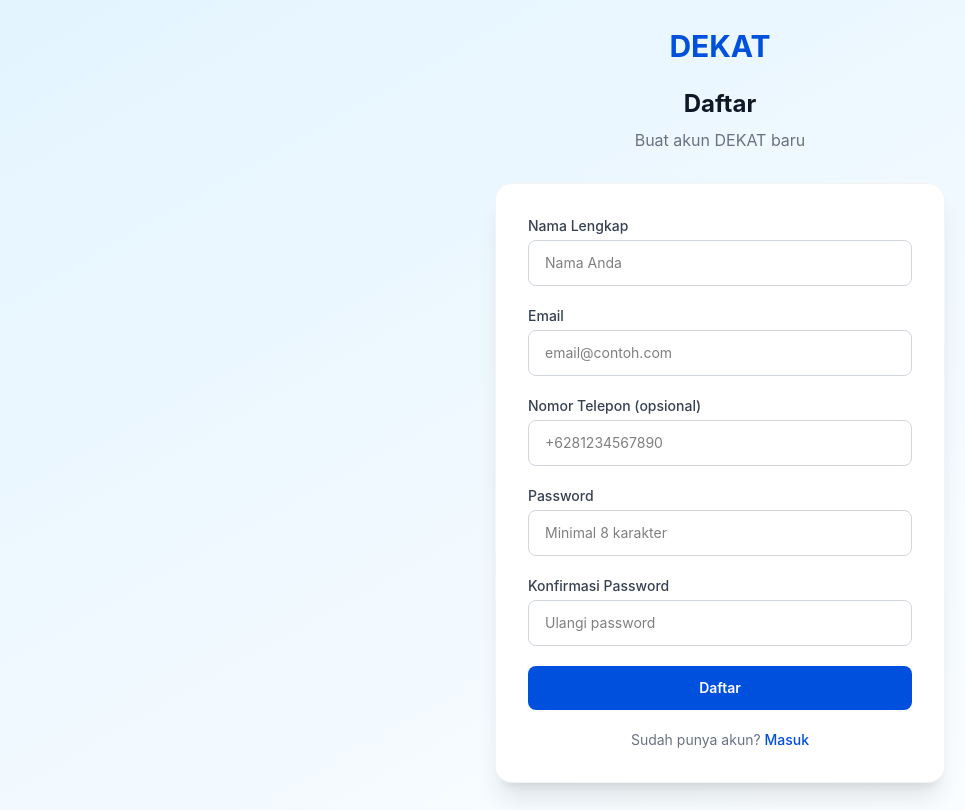
RegisterPage › validates invalid email format
Type "Test User" into the field labelled "Nama Lengkap".
click(720, 263); type("Test User")  # box [528,240,912,286]
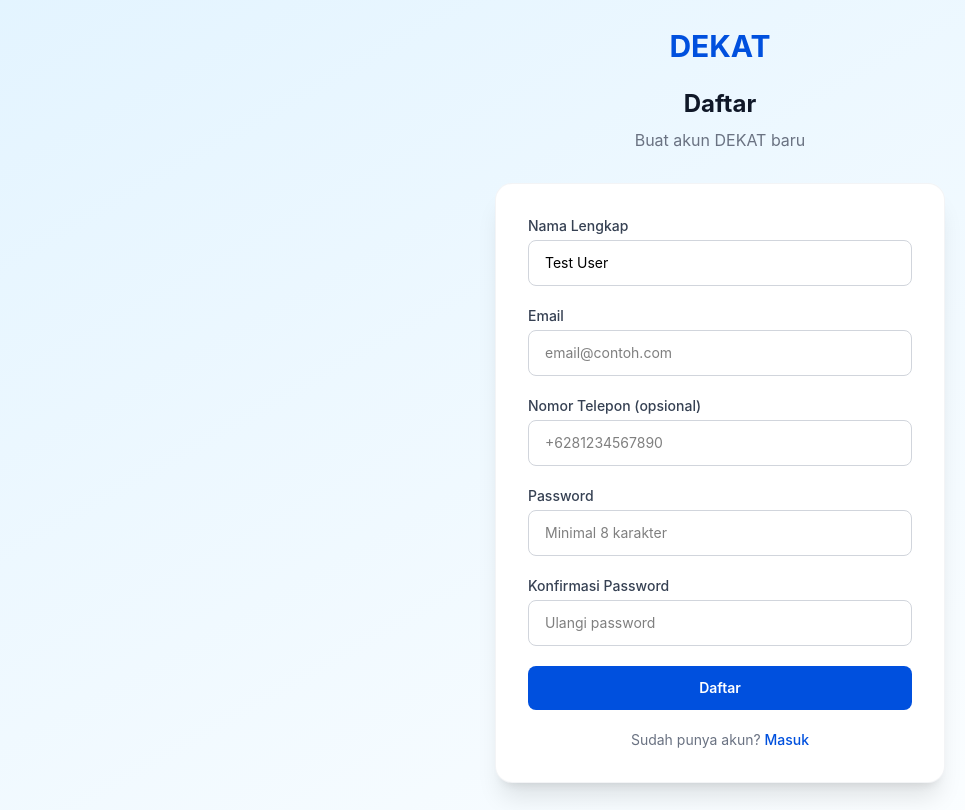
Type "a@b" into the field labelled "Email".
click(720, 353); type("a@b")  # box [528,330,912,376]
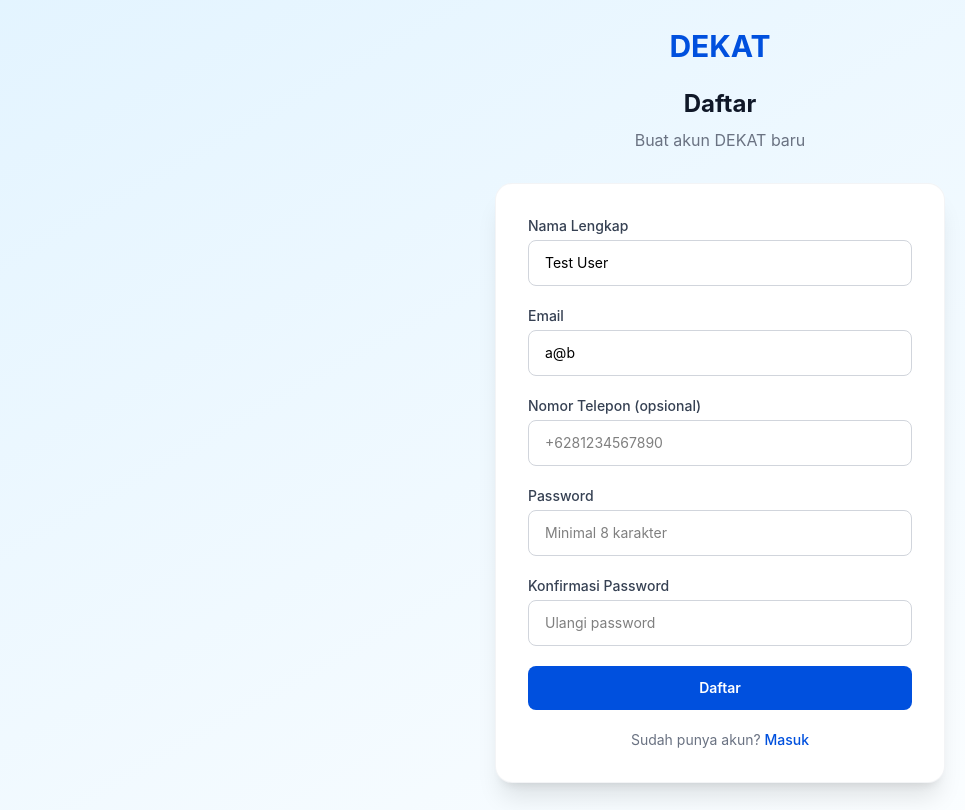
Type "password123" into the password field labelled "Password".
click(720, 533); type("password123")  # box [528,510,912,556]
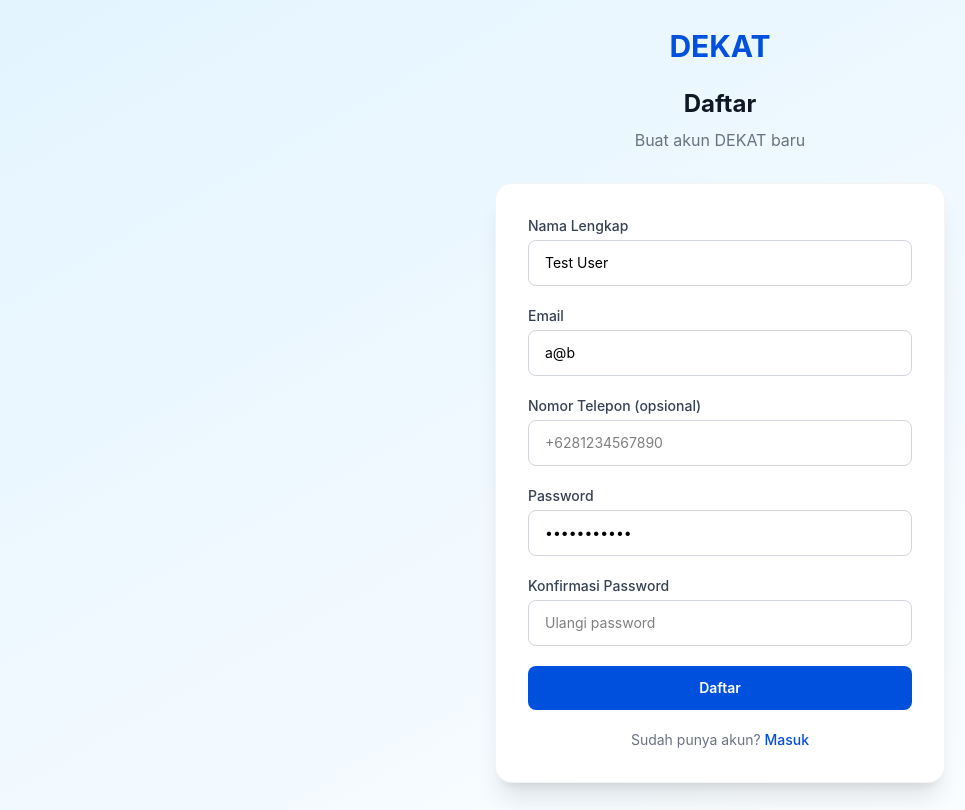
Type "password123" into the password field labelled "Konfirmasi Password".
click(720, 623); type("password123")  # box [528,600,912,646]
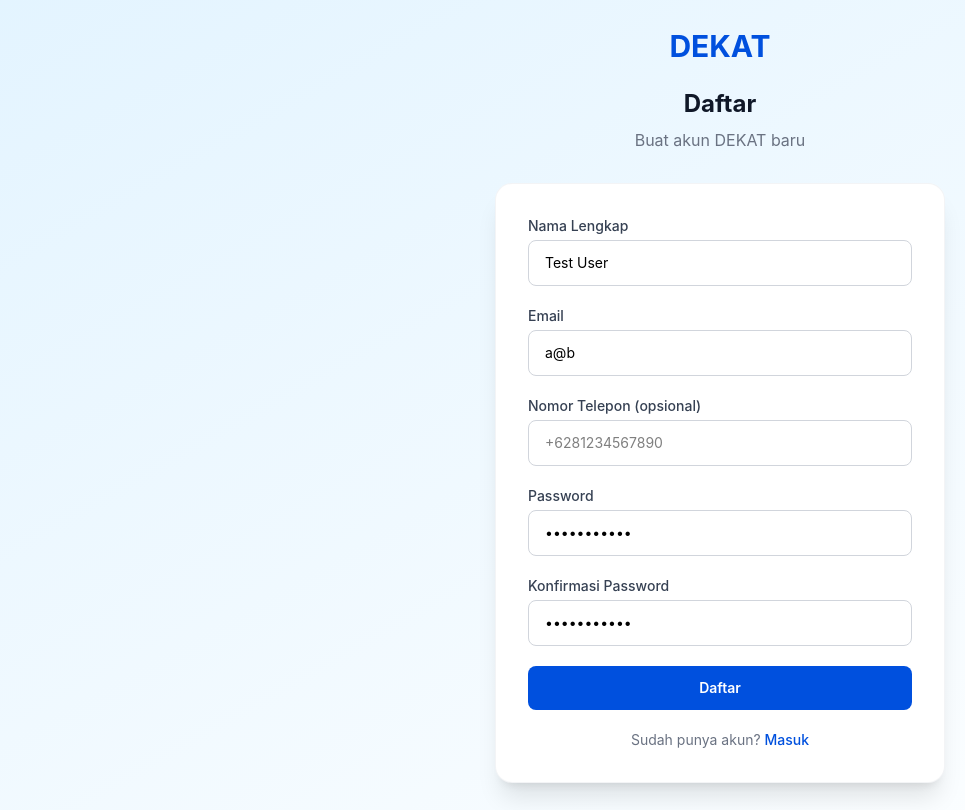
Click the button "Daftar".
click(720, 688)  # box [528,666,912,710]
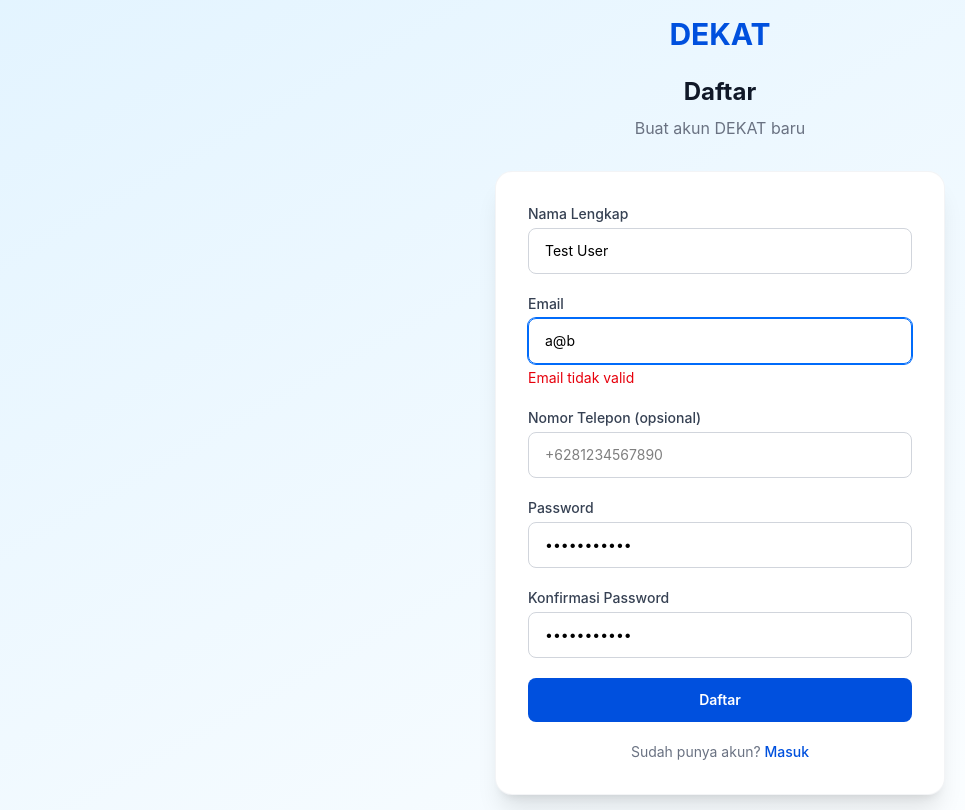
Expected: the text "Email tidak valid" is shown, [528,369,634,386]
